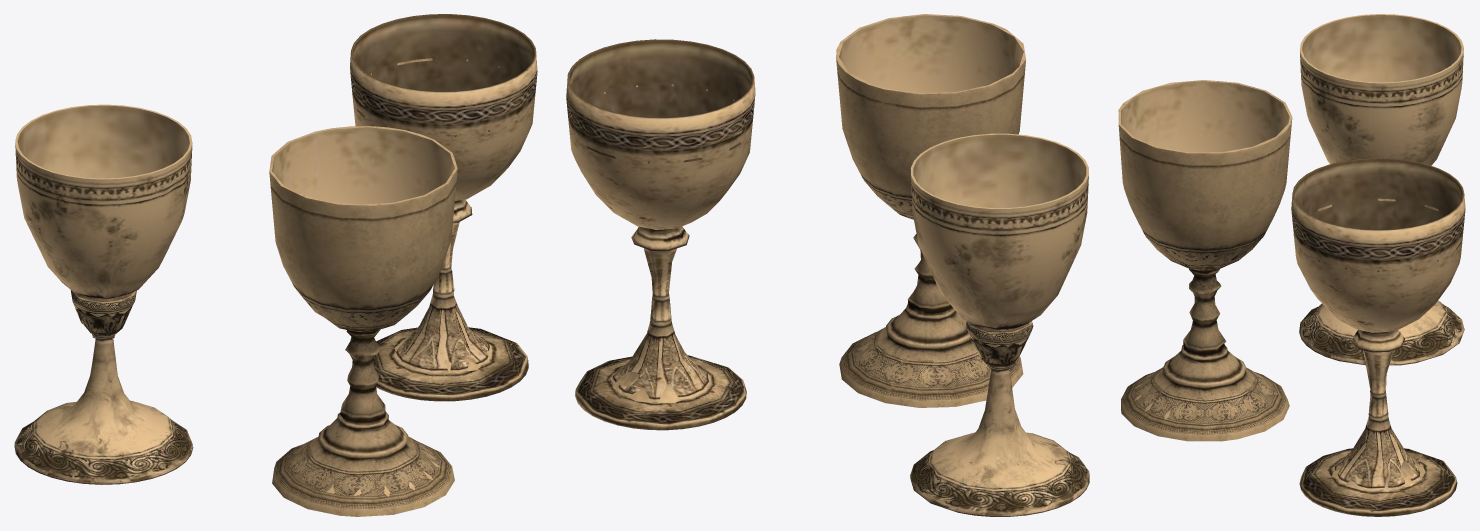
The model's file is brass_goblets.glb.
3 views of the same model, side by side, from view 1: azimuth 30°, elevation 25°; view 2: azimuth 150°, elevation 25°; view 3: azimuth 270°, elevation 25° (orthographic). The views are drawn at different scales.
Parts seen in each view (by area): view 1: brass_goblets_01, brass_goblets_02, brass_goblets_03; view 2: brass_goblets_02, brass_goblets_03, brass_goblets_01; view 3: brass_goblets_01, brass_goblets_03, brass_goblets_02.
Part boxes in pixels (x1=…): brass_goblets_01: x1=269, y1=126, x2=457, y2=516; brass_goblets_02: x1=14, y1=104, x2=193, y2=484; brass_goblets_03: x1=350, y1=14, x2=537, y2=401; brass_goblets_02: x1=910, y1=133, x2=1089, y2=516; brass_goblets_03: x1=566, y1=39, x2=755, y2=430; brass_goblets_01: x1=836, y1=14, x2=1025, y2=407; brass_goblets_01: x1=1118, y1=80, x2=1292, y2=441; brass_goblets_03: x1=1291, y1=158, x2=1465, y2=516; brass_goblets_02: x1=1299, y1=14, x2=1464, y2=365.
Size of the model in its own units: 0.453 by 0.2734 by 0.2959.
3 materials, 3 textured.
